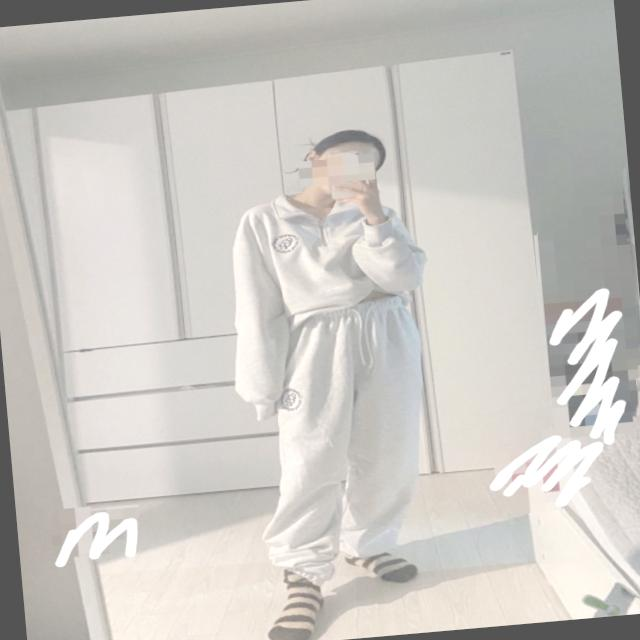mtm: (225, 180, 444, 420)
trainingpants: (249, 291, 445, 576)
